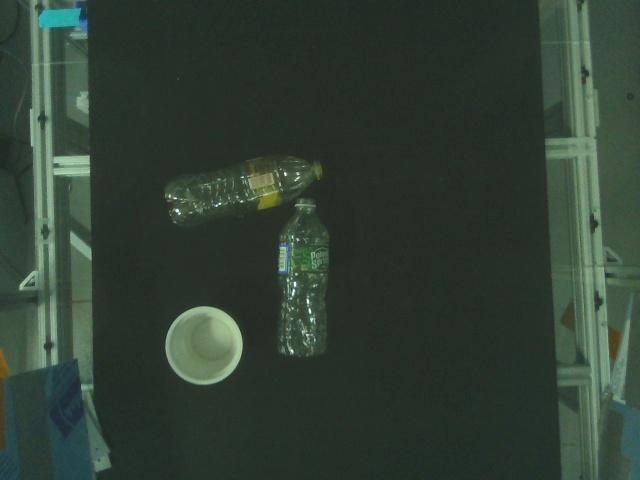plastic: (164, 154, 326, 226), (278, 197, 331, 359), (166, 306, 243, 386)
